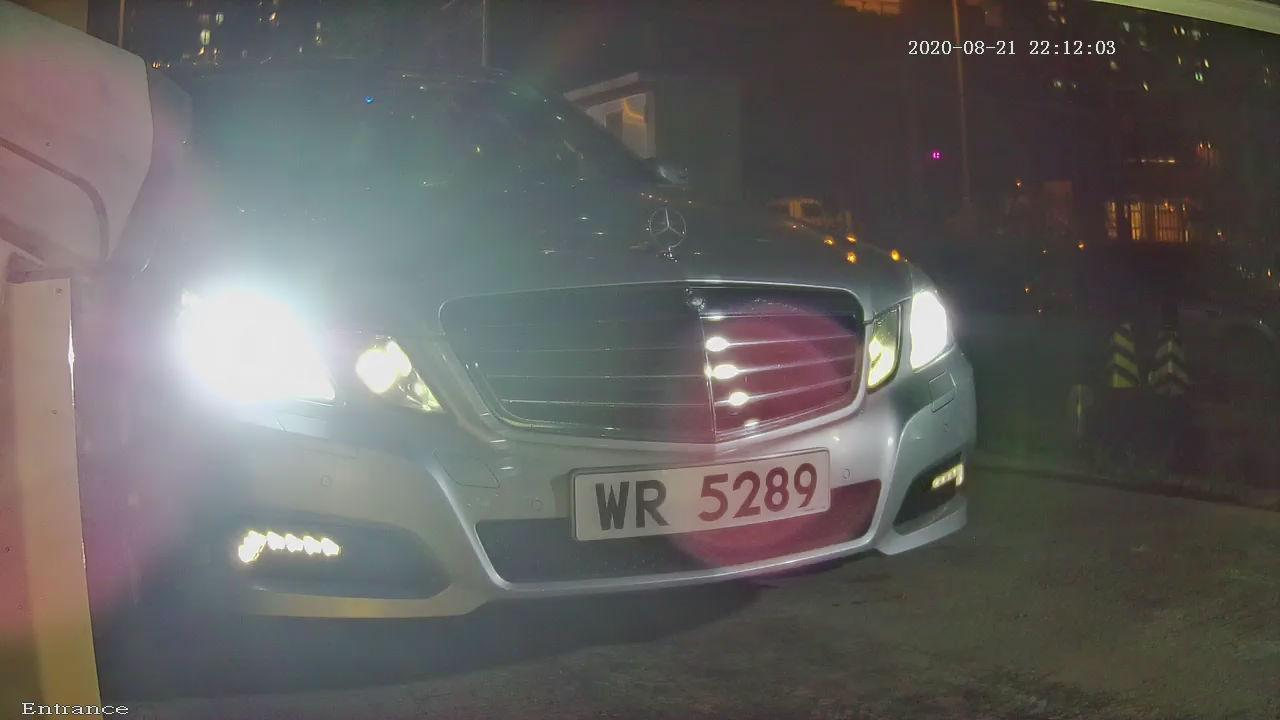Car: (12, 10, 1115, 688)
License Plate: (514, 434, 869, 568)
